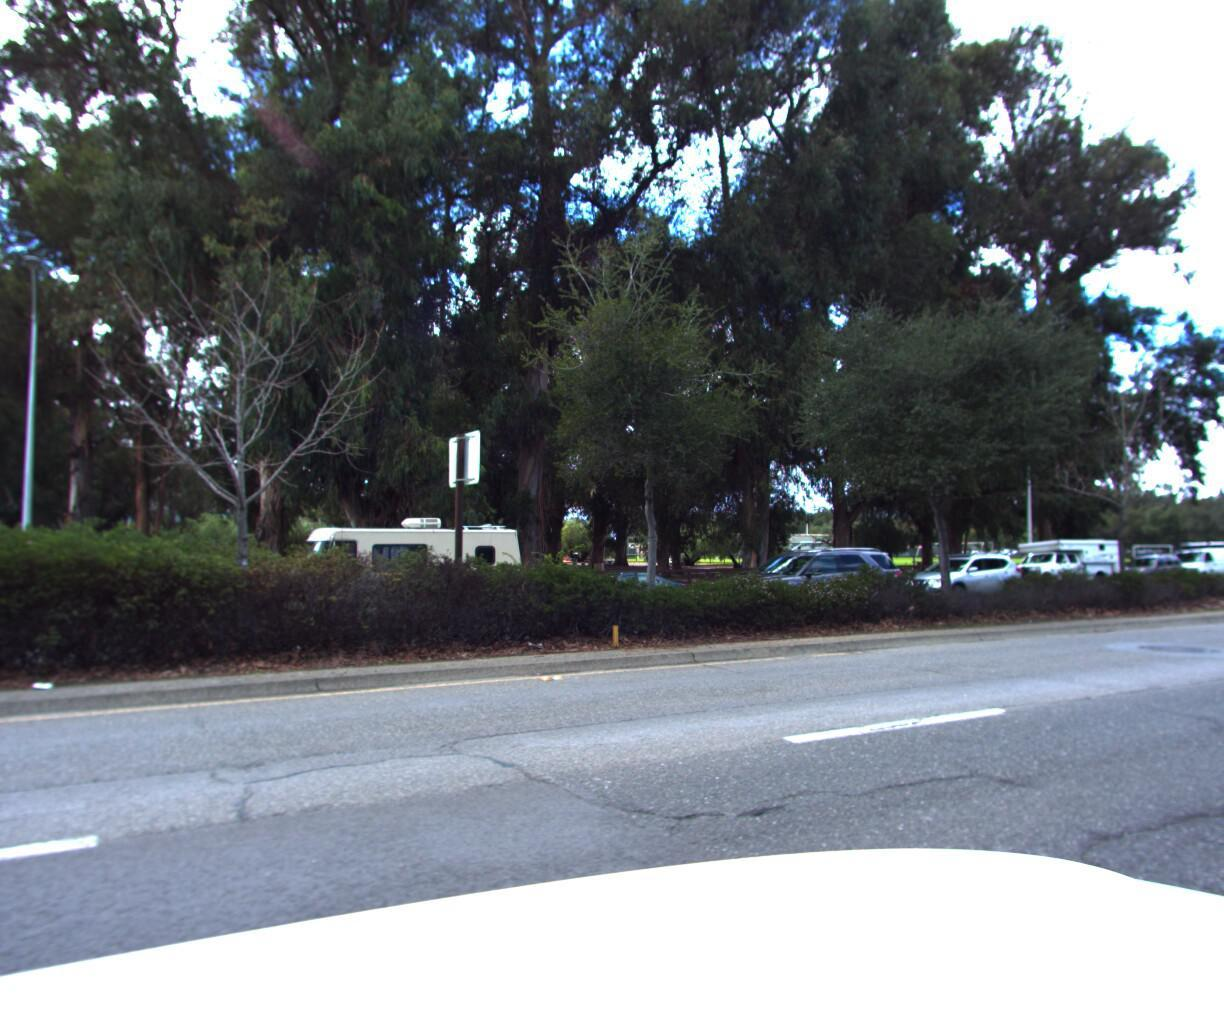car: (713, 543, 916, 631), (892, 551, 1035, 608), (547, 570, 693, 619), (1102, 551, 1187, 588), (1148, 545, 1224, 585)
other_vehicle: (272, 520, 538, 641), (976, 535, 1128, 596)
